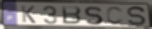3: (42, 5, 58, 25)
B: (60, 5, 82, 25)
C: (106, 6, 126, 26)
K: (20, 4, 37, 24)
S: (126, 6, 148, 27), (83, 5, 104, 26)
